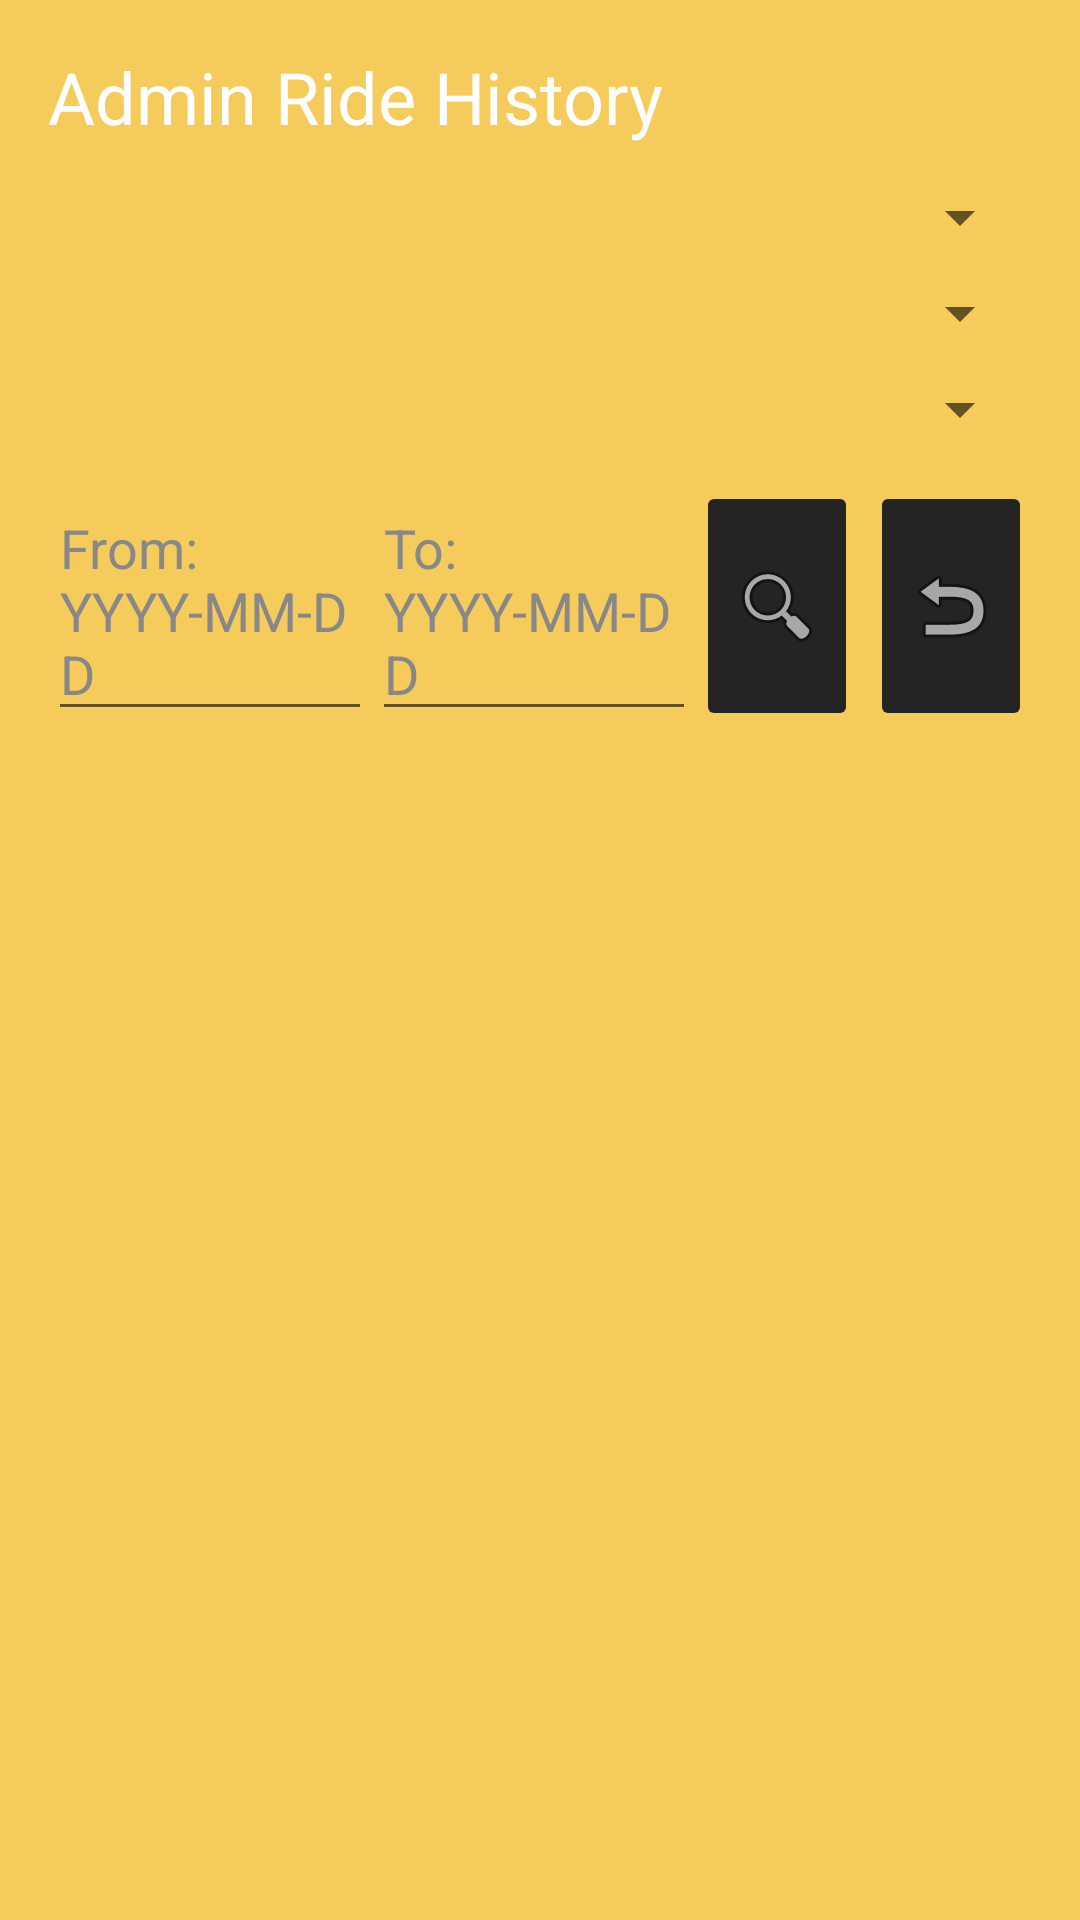

Screen size 1080*1920. Icon name, then its box in pixels as (x1, y1, x2, y2):
revert: (882, 499, 1020, 713)
search: (708, 499, 846, 713)
